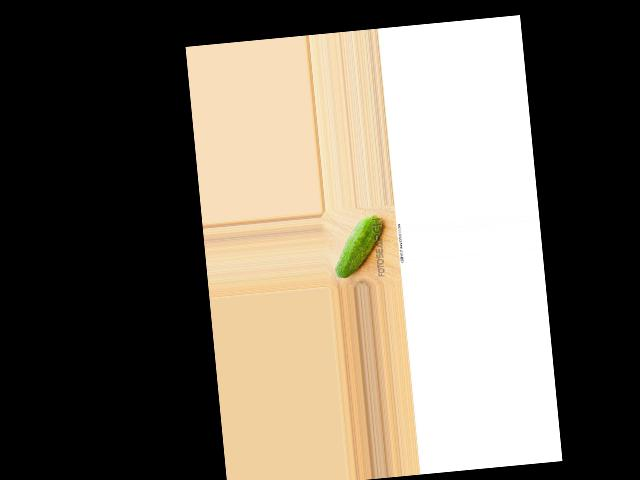cucumber: (330, 213, 387, 278)
